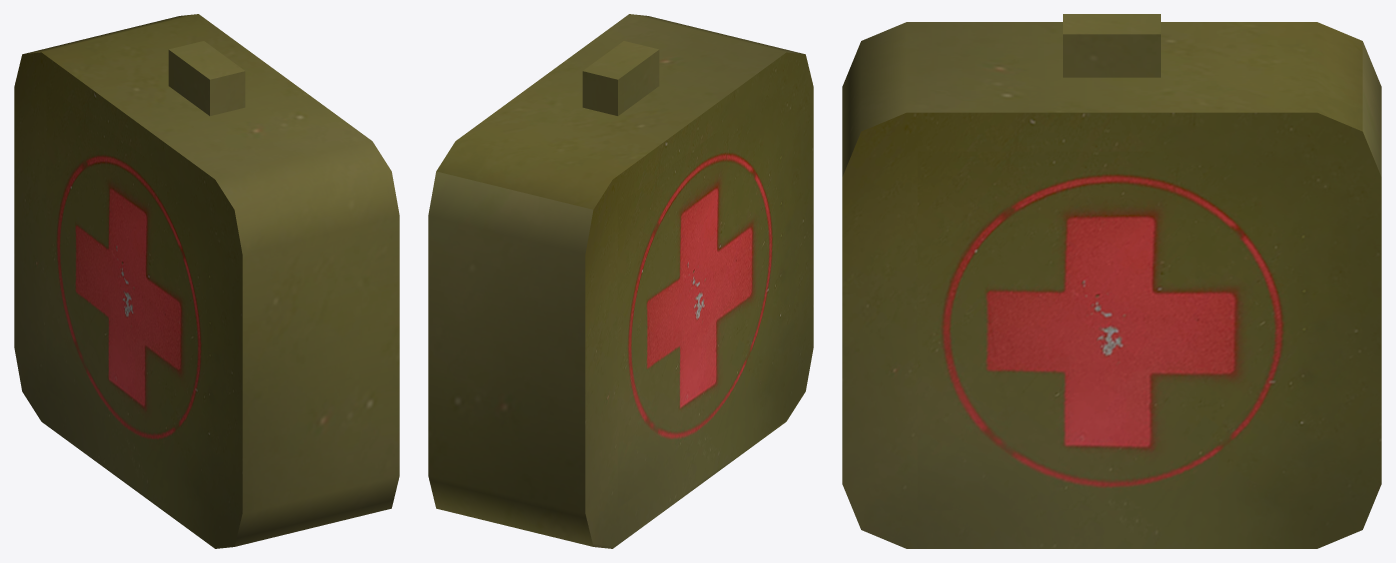
File: MediBox.fbx
3 renders of one model, left to right at view 1: azimuth 30°, elevation 25°; view 2: azimuth 150°, elevation 25°; view 3: azimuth 270°, elevation 25°, orthographic. The views are drawn at different scales.
Visible parts, largest first — view 1: Cube, Cube.001; view 2: Cube, Cube.001; view 3: Cube, Cube.001.
Boxes of the visible parts, <box> form: Cube: <box>14,14,399,548</box>; Cube.001: <box>168,41,245,115</box>; Cube: <box>428,14,813,548</box>; Cube.001: <box>582,41,659,115</box>; Cube: <box>842,22,1381,548</box>; Cube.001: <box>1063,14,1160,77</box>.
Size of the model in its own units: 60.65 by 150 by 153.
2 materials, 2 textured.
